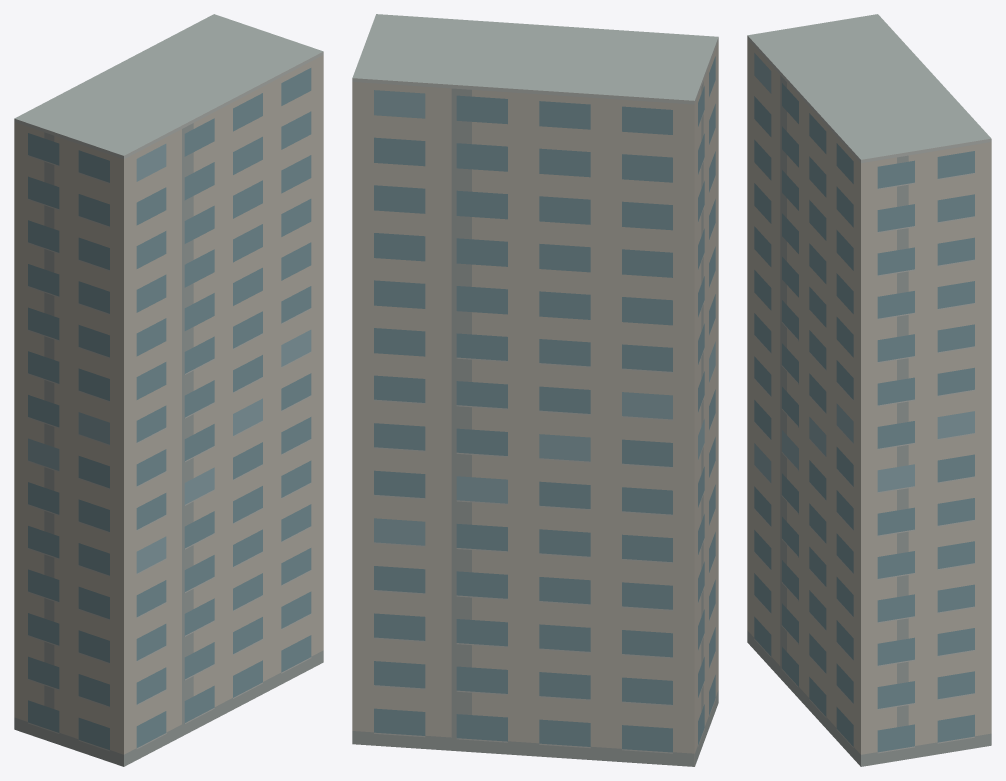
Rendered from residential-a3988635-8e1e-48bc-8b6c-67f9d1d31a22.glb.
3 views of the same model, side by side, from view 1: azimuth 30°, elevation 25°; view 2: azimuth 150°, elevation 25°; view 3: azimuth 270°, elevation 25° (orthographic). The views are drawn at different scales.
Visible parts, largest first — view 1: residential-a3988635-8e1e-48bc-8b6c-67f9d1d31a22.tmp; view 2: residential-a3988635-8e1e-48bc-8b6c-67f9d1d31a22.tmp; view 3: residential-a3988635-8e1e-48bc-8b6c-67f9d1d31a22.tmp.
Part boxes in pixels (x1=…): residential-a3988635-8e1e-48bc-8b6c-67f9d1d31a22.tmp: x1=14, y1=14, x2=323, y2=766; residential-a3988635-8e1e-48bc-8b6c-67f9d1d31a22.tmp: x1=352, y1=14, x2=718, y2=766; residential-a3988635-8e1e-48bc-8b6c-67f9d1d31a22.tmp: x1=747, y1=14, x2=991, y2=766.
Bounding box in the file's own units: 22.17 × 43 × 15.68.
